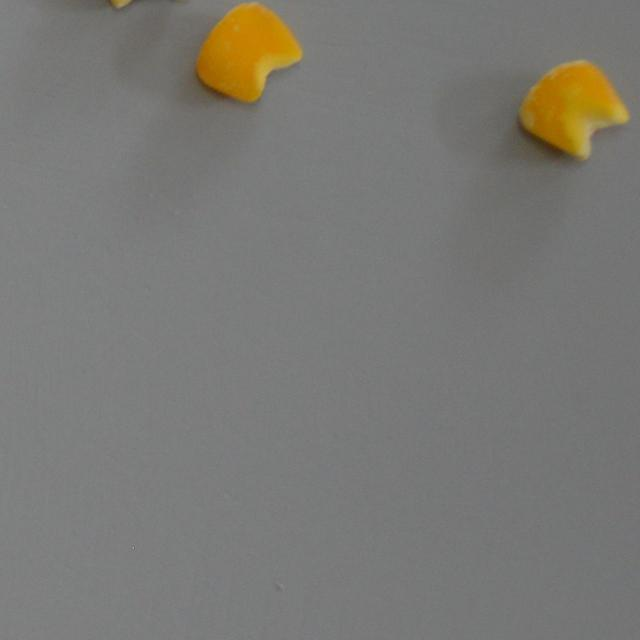pelicula: (518, 58, 630, 162), (195, 0, 303, 104), (96, 0, 205, 11)
